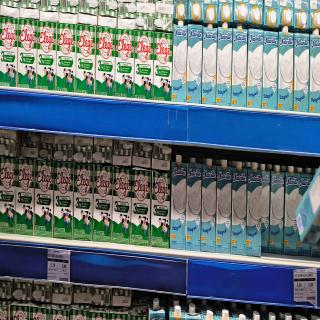Milk: (51, 158, 76, 234), (75, 159, 95, 246), (131, 163, 150, 250), (172, 155, 188, 253), (93, 159, 112, 241), (202, 153, 217, 253), (232, 158, 246, 264), (233, 20, 248, 107), (263, 24, 277, 109), (172, 21, 186, 104), (204, 24, 217, 110), (153, 0, 172, 30), (294, 1, 308, 32), (264, 1, 280, 28), (205, 0, 221, 23)
